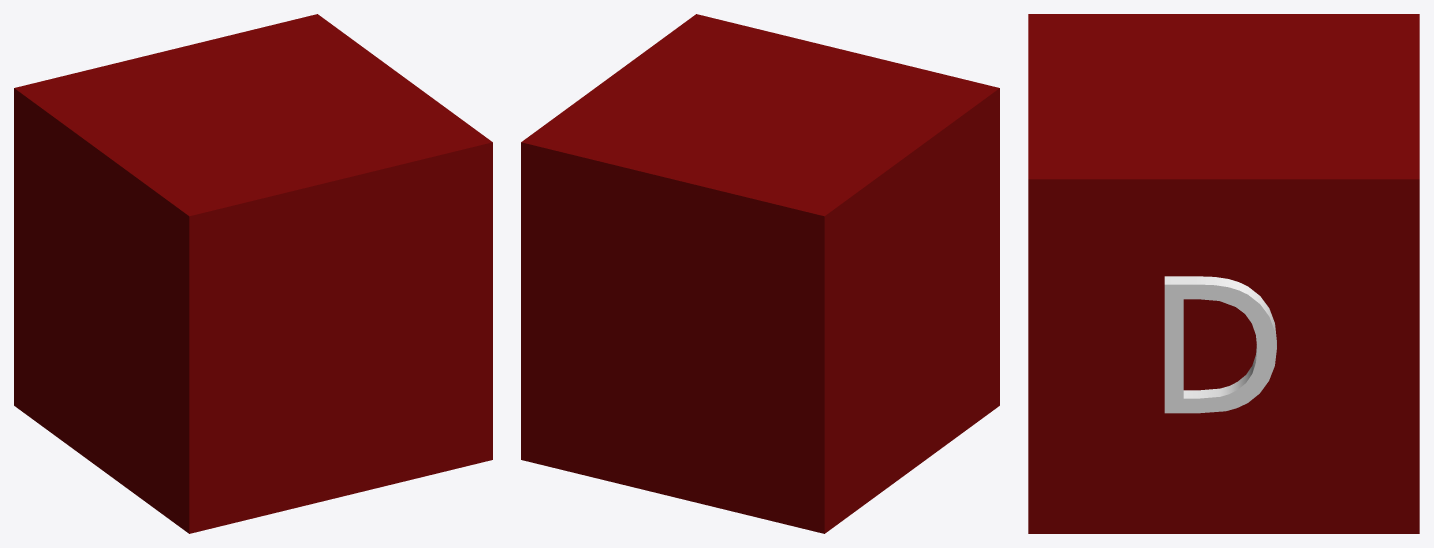
3 renders of one model, left to right at view 1: azimuth 30°, elevation 25°; view 2: azimuth 150°, elevation 25°; view 3: azimuth 270°, elevation 25°, orthographic. The views are drawn at different scales.
Visible parts, largest first — view 1: SketchUp; view 2: SketchUp; view 3: SketchUp, D_1 (×2).
Part boxes in pixels (left/top/right/bottom): SketchUp: left=14, top=14, right=492, bottom=533; SketchUp: left=521, top=14, right=999, bottom=533; SketchUp: left=1028, top=14, right=1419, bottom=533; D_1 (×2): left=1164, top=276, right=1276, bottom=413.
Size of the model in its own units: 21 by 20 by 20.
